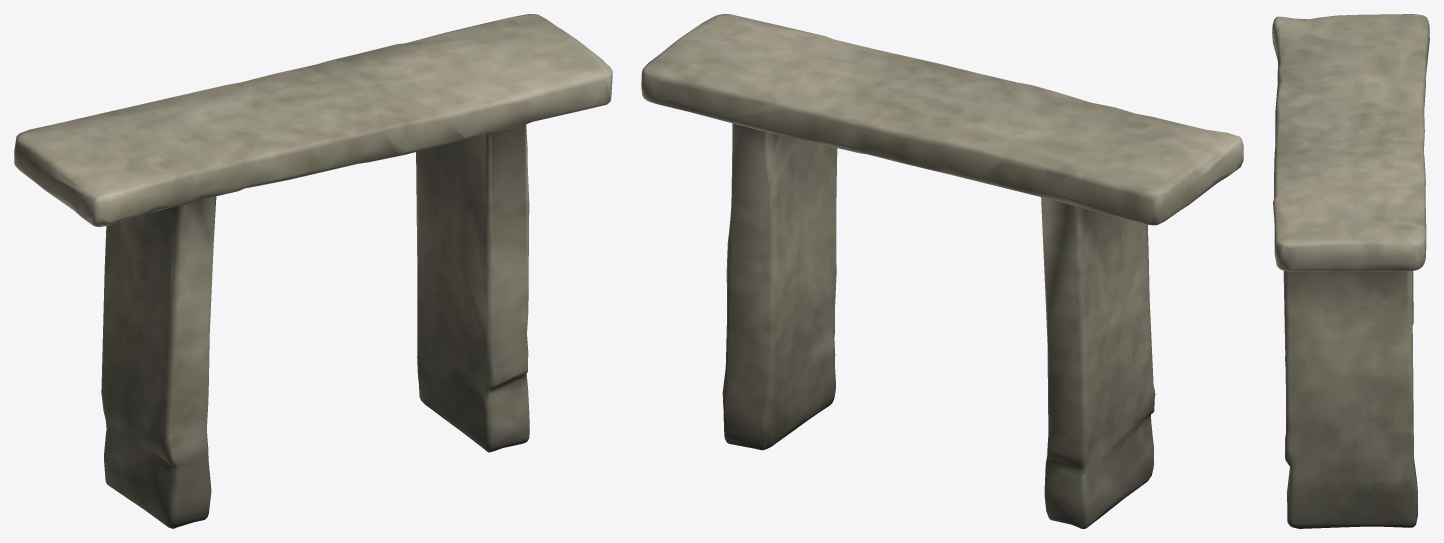
File: chipped-limestone-bench-v001.glb
3 views of the same model, side by side, from view 1: azimuth 30°, elevation 25°; view 2: azimuth 150°, elevation 25°; view 3: azimuth 270°, elevation 25° (orthographic). The views are drawn at different scales.
Visible parts, largest first — view 1: chipped-limestone-bench; view 2: chipped-limestone-bench; view 3: chipped-limestone-bench.
Boxes of the visible parts, x1,y1,x2,y2 form: chipped-limestone-bench: [14, 14, 612, 528]; chipped-limestone-bench: [641, 14, 1243, 528]; chipped-limestone-bench: [1272, 14, 1429, 528].
Size of the model in its own units: 0.6785 by 0.4498 by 0.1965.
1 material, 1 textured.
